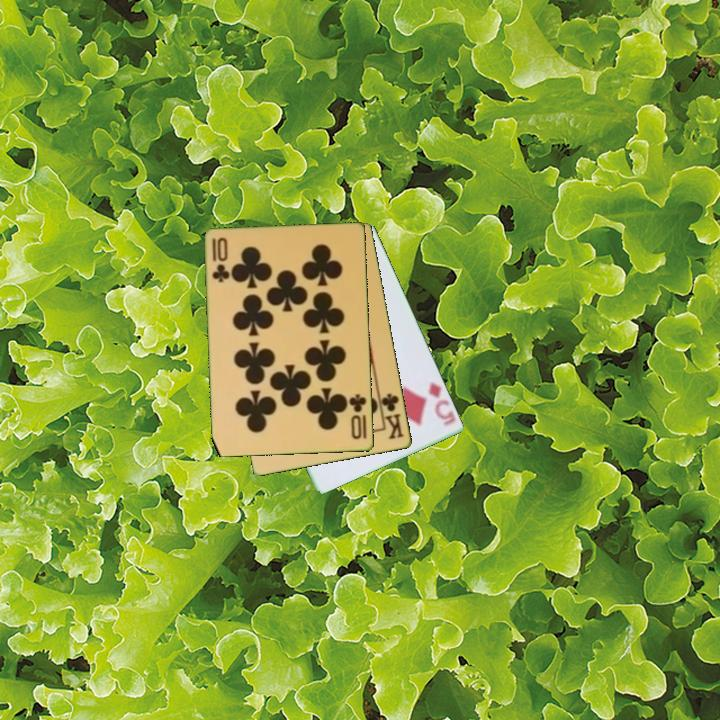10c: (346, 391, 370, 442), (209, 234, 231, 286)
5d: (425, 378, 459, 428)
Kc: (376, 389, 407, 442)
